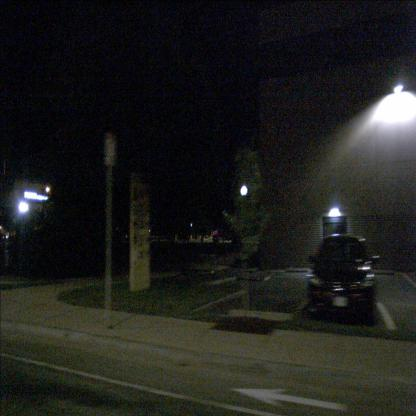vehicle-car: (308, 235, 376, 324)
